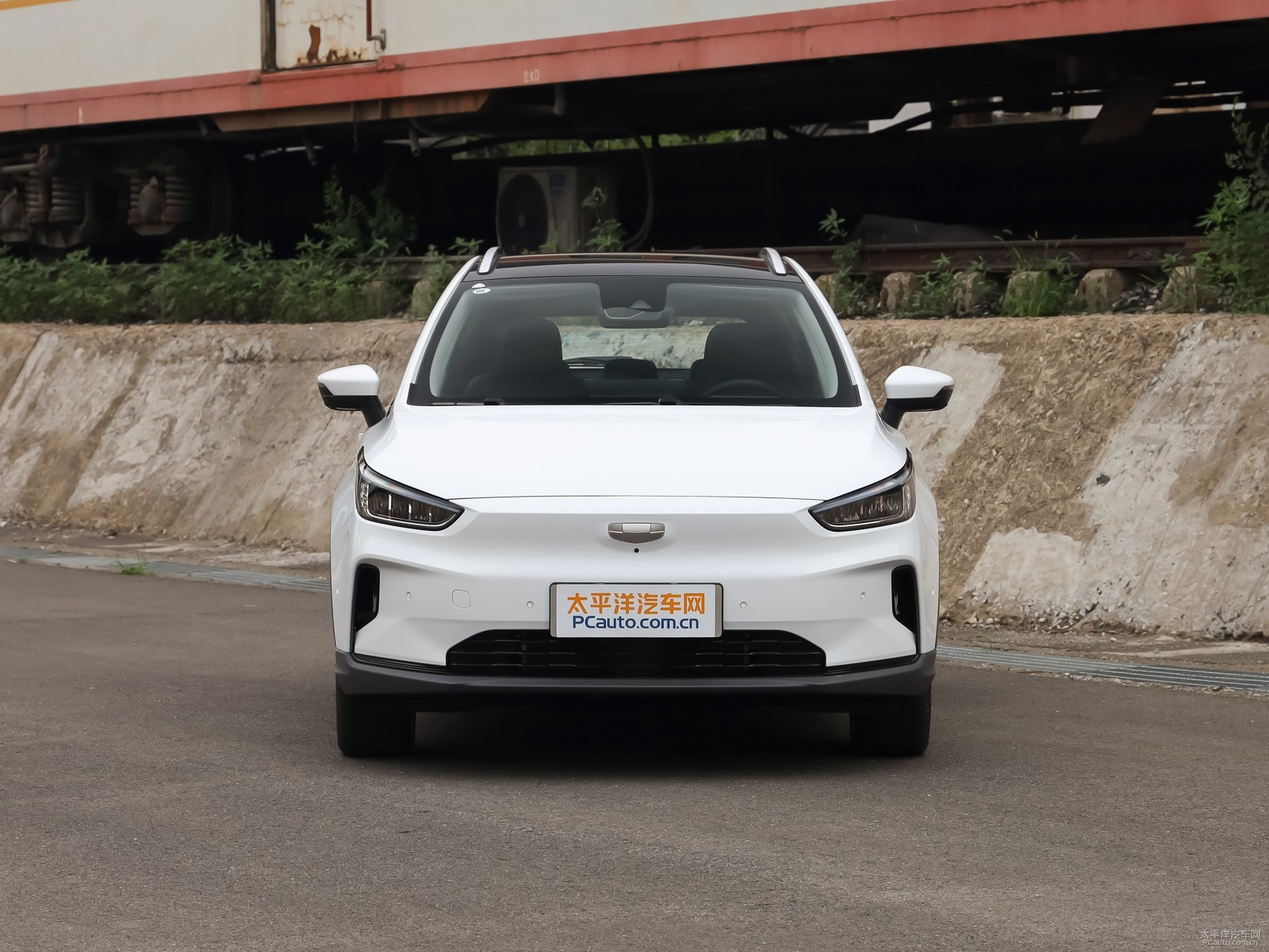GEOMETRY: (609, 524, 664, 543)
